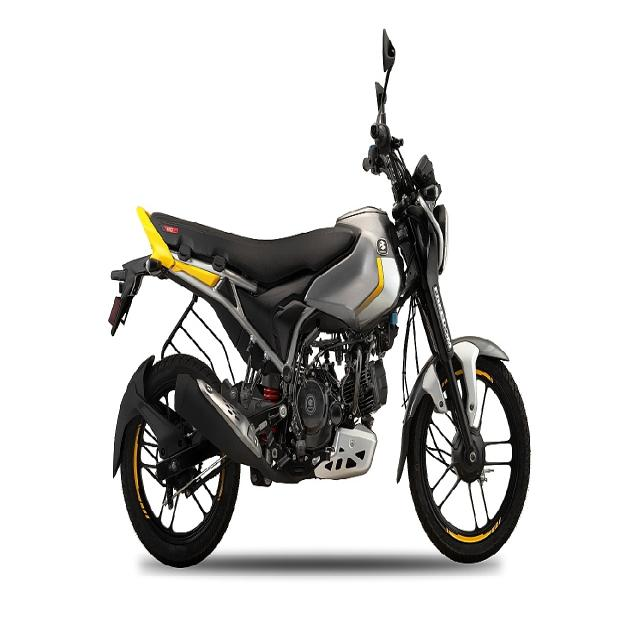Bike: (108, 108, 532, 574)
